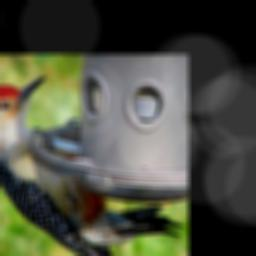Woodpecker: (0, 76, 184, 256)
